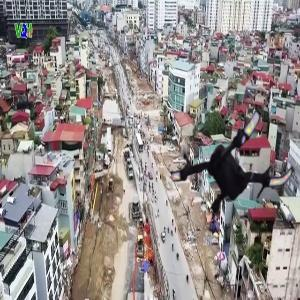drone: (160, 102, 296, 238)
